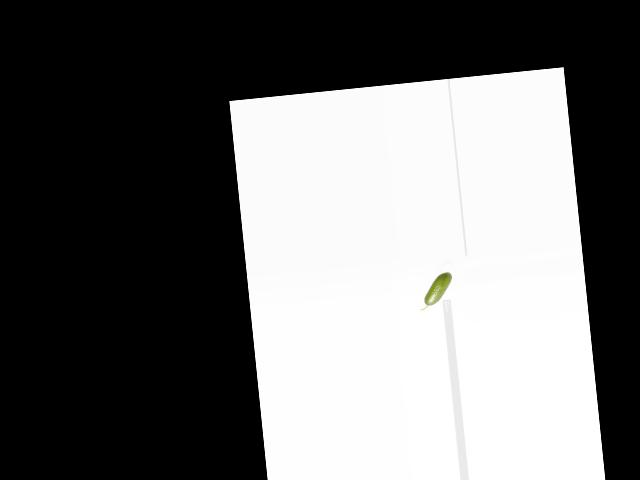cucumber: (417, 272, 455, 311)
